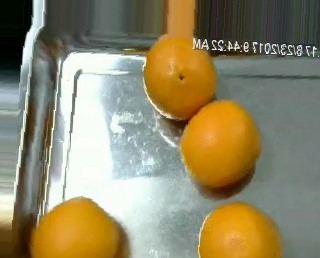Orange: (179, 98, 262, 187), (30, 195, 123, 258), (197, 201, 283, 258)
